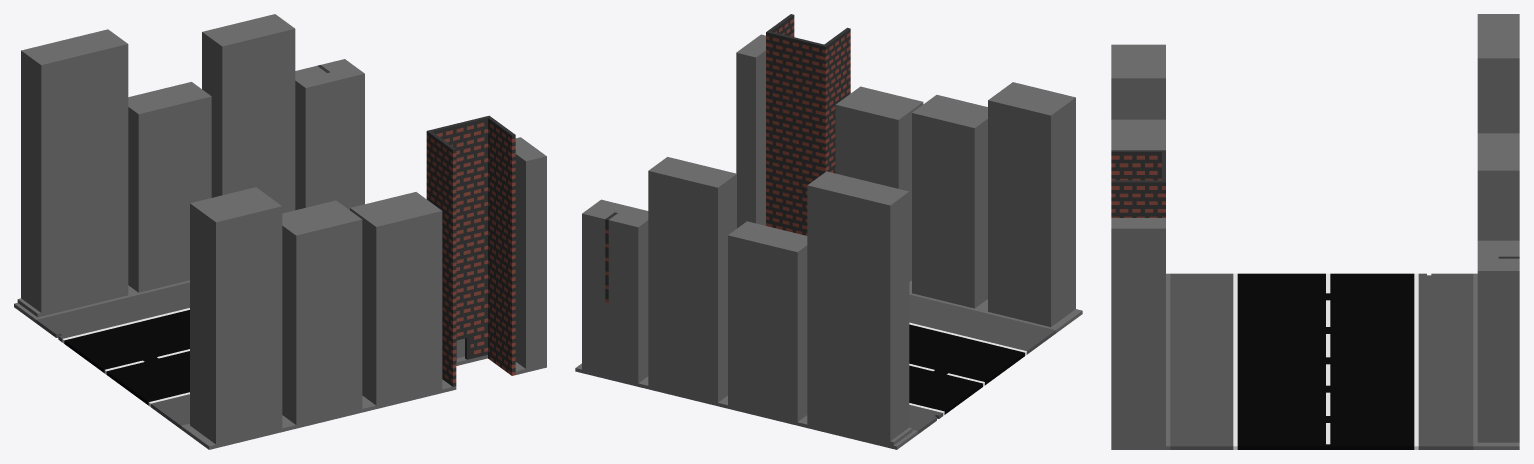
The model's file is strret.obj.
The picture shows the model from 3 angles, left to right: view 1: azimuth 30°, elevation 25°; view 2: azimuth 150°, elevation 25°; view 3: azimuth 270°, elevation 25°; orthographic projection. The views are drawn at different scales.
Size of the model in its own units: 9.7 by 7 by 9.7.
Materials: 1 (1 with a texture image).
